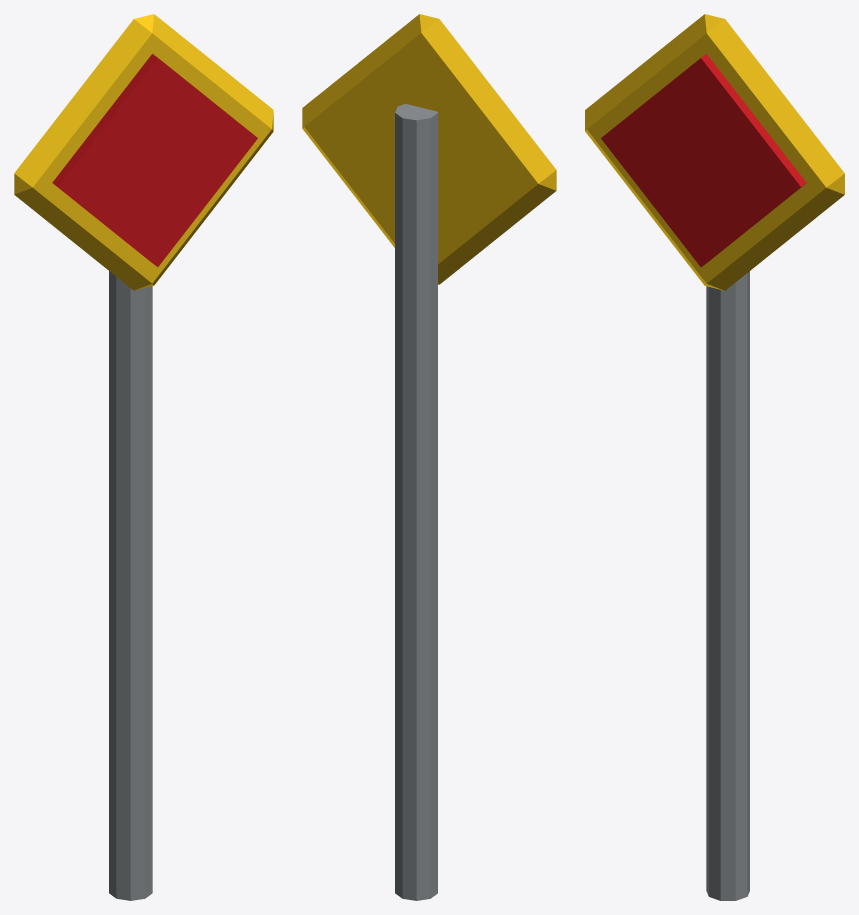
File: transport-TrafficSign3.glb
The picture shows the model from 3 angles, left to right: view 1: azimuth 30°, elevation 25°; view 2: azimuth 150°, elevation 25°; view 3: azimuth 330°, elevation 25°; orthographic projection. The views are drawn at different scales.
Visible parts, largest first — view 1: Pole, Border, Sign; view 2: Pole, Sign; view 3: Pole, Border, Sign.
Part boxes in pixels (left/top/right/bottom): Pole: left=109, top=271, right=152, bottom=900; Border: left=52, top=54, right=257, bottom=266; Sign: left=14, top=14, right=273, bottom=290; Pole: left=395, top=104, right=437, bottom=900; Sign: left=302, top=14, right=556, bottom=284; Pole: left=706, top=271, right=749, bottom=900; Border: left=601, top=54, right=806, bottom=266; Sign: left=585, top=14, right=844, bottom=290.
Bounding box in the file's own units: 0.4369 × 1.42 × 0.1113.
